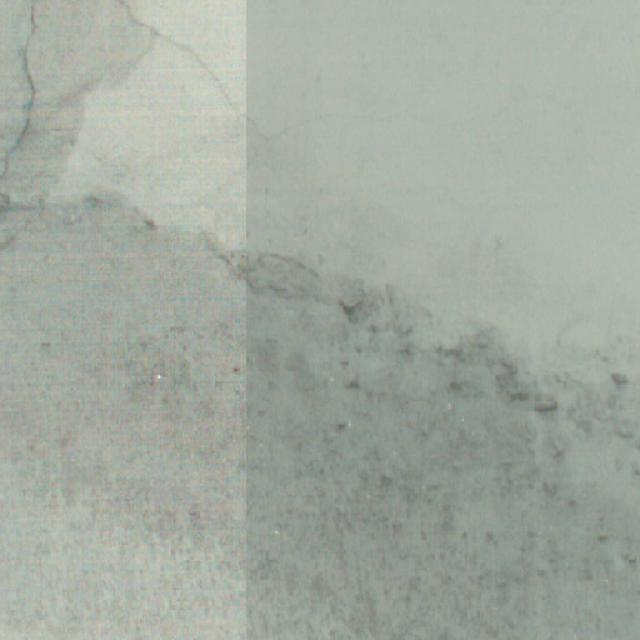Network: (0, 3, 269, 313)
Rippled: (281, 250, 640, 473)
